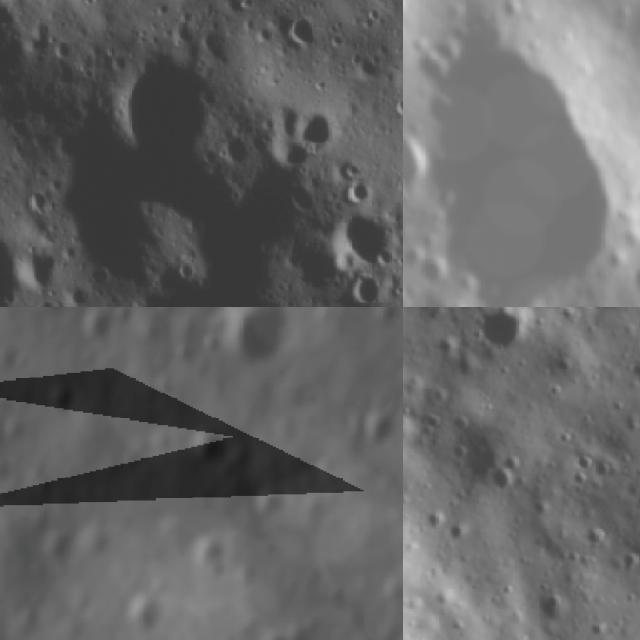crater: (403, 21, 637, 307), (105, 42, 219, 158), (322, 208, 402, 274), (219, 307, 296, 373), (348, 400, 403, 462), (115, 282, 241, 307), (35, 522, 83, 587), (178, 423, 232, 478), (9, 237, 58, 297), (473, 307, 534, 354), (126, 588, 180, 640), (253, 474, 296, 538), (274, 5, 330, 54), (188, 529, 236, 586), (284, 100, 336, 150), (74, 310, 121, 364), (403, 125, 430, 193), (341, 267, 386, 307), (418, 248, 452, 297), (534, 591, 576, 629), (367, 307, 403, 339), (378, 571, 403, 609), (245, 621, 294, 640), (485, 470, 516, 496), (567, 449, 598, 474), (412, 292, 463, 307), (591, 460, 619, 486), (493, 0, 525, 22), (623, 357, 640, 388), (403, 413, 417, 448)
